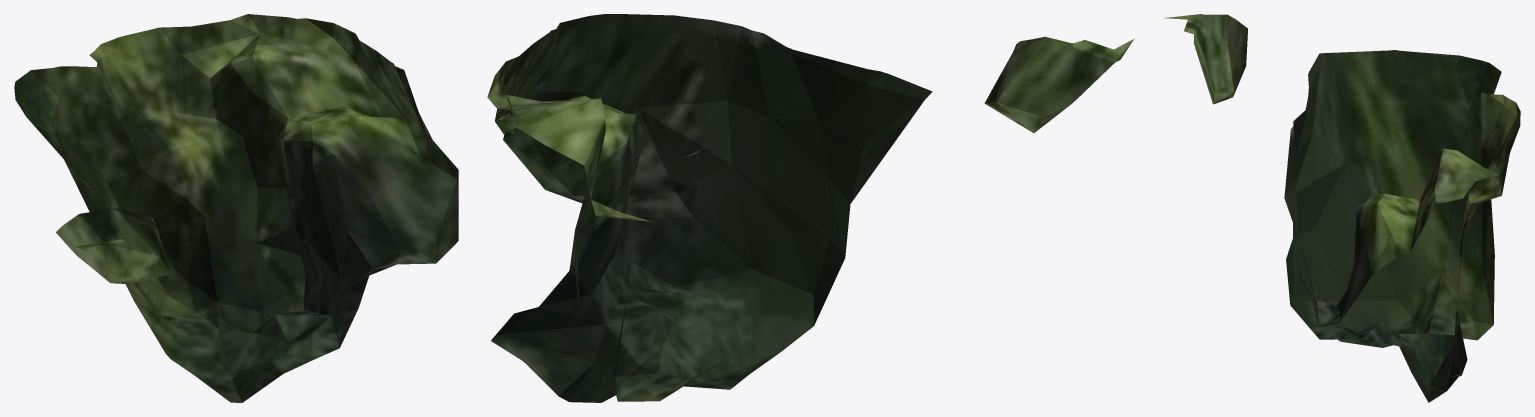
3 renders of one model, left to right at view 1: azimuth 30°, elevation 25°; view 2: azimuth 150°, elevation 25°; view 3: azimuth 270°, elevation 25°, orthographic. The views are drawn at different scales.
Bounding box in the file's own units: 5.93 × 3.6 × 4.78.
Materials: 1 (1 with a texture image).
